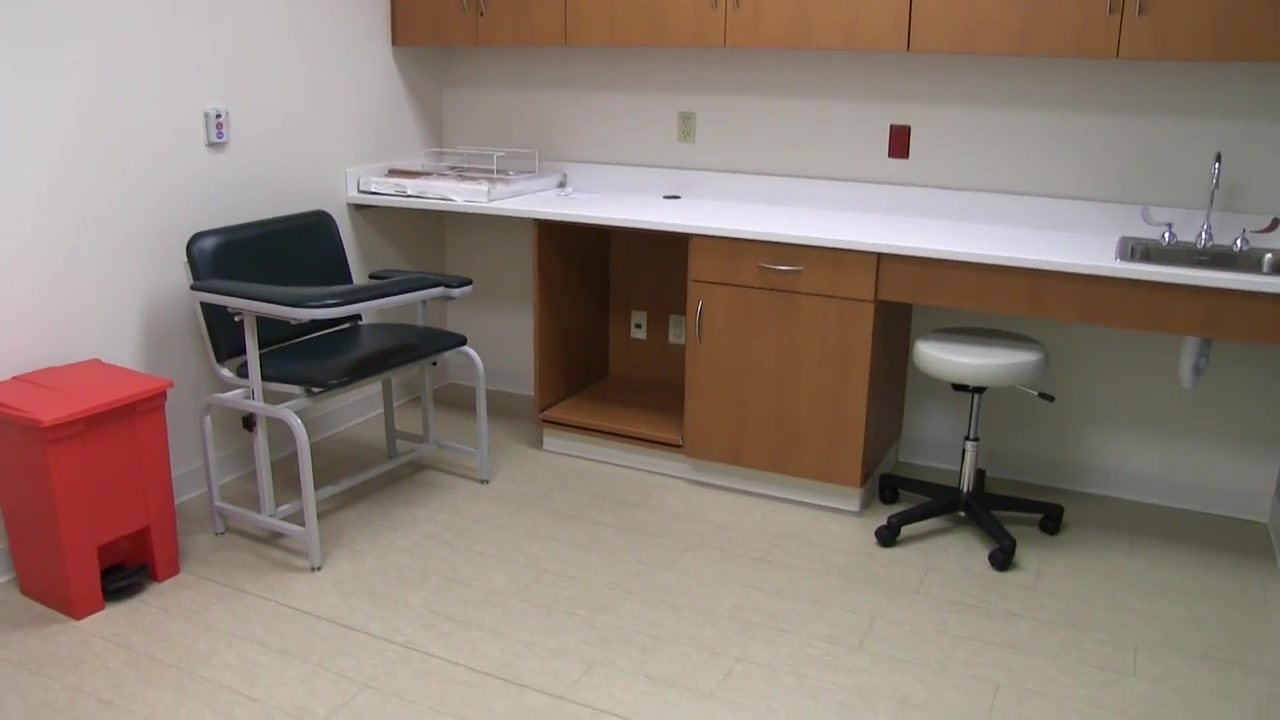cabinet: (391, 1, 1279, 62)
chair: (180, 208, 490, 574), (875, 324, 1067, 574)
countertop: (348, 180, 1280, 296)
drawer: (688, 240, 911, 514)
faucet: (1141, 150, 1279, 244)
handle: (757, 262, 804, 273), (694, 299, 703, 347), (475, 1, 491, 14), (457, 1, 469, 16), (1135, 1, 1141, 16), (1105, 1, 1110, 16)
sink: (1114, 235, 1280, 278)
waste_bin: (1, 356, 180, 621)
